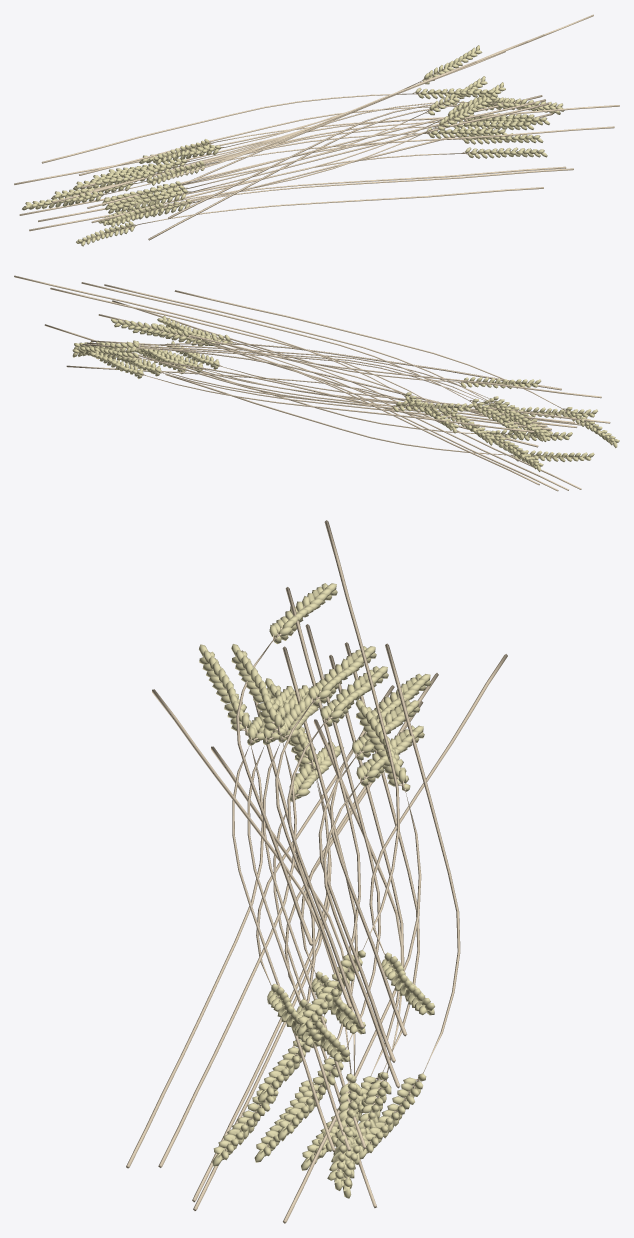
Rendered from wheat_item.fbx.
3 views of the same model, one above another, from view 1: azimuth 30°, elevation 25°; view 2: azimuth 150°, elevation 25°; view 3: azimuth 270°, elevation 25° (orthographic). The views are drawn at different scales.
Visible parts, largest first — view 1: lvs_38_001; view 2: lvs_38_001; view 3: lvs_38_001.
Boxes of the visible parts, x1=… form: lvs_38_001: x1=14, y1=14, x2=619, y2=246; lvs_38_001: x1=14, y1=275, x2=619, y2=491; lvs_38_001: x1=126, y1=520, x2=507, y2=1223.
Size of the model in its own units: 0.6131 by 0.117 by 0.1728.
